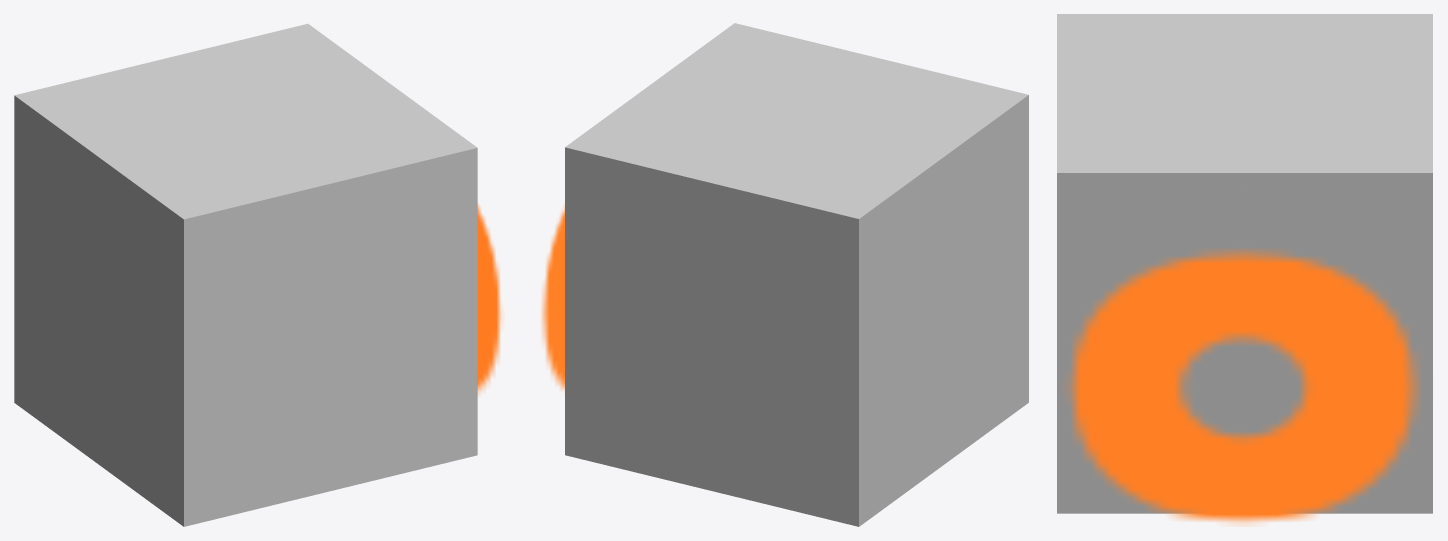
3 views of the same model, side by side, from view 1: azimuth 30°, elevation 25°; view 2: azimuth 150°, elevation 25°; view 3: azimuth 270°, elevation 25° (orthographic). The views are drawn at different scales.
Parts seen in each view (by area): view 1: Cube.012, o; view 2: Cube.012, o; view 3: Cube.012, o.
Part boxes in pixels (x1,y1,x2,y2): Cube.012: (14,23,477,526); o: (477,204,501,393); Cube.012: (565,23,1028,526); o: (541,205,564,390); Cube.012: (1057,14,1432,513); o: (1069,249,1419,524).
Size of what is drawn, in the model's own units: 3.3 by 3.02 by 3.01.
1 material, 1 textured.
